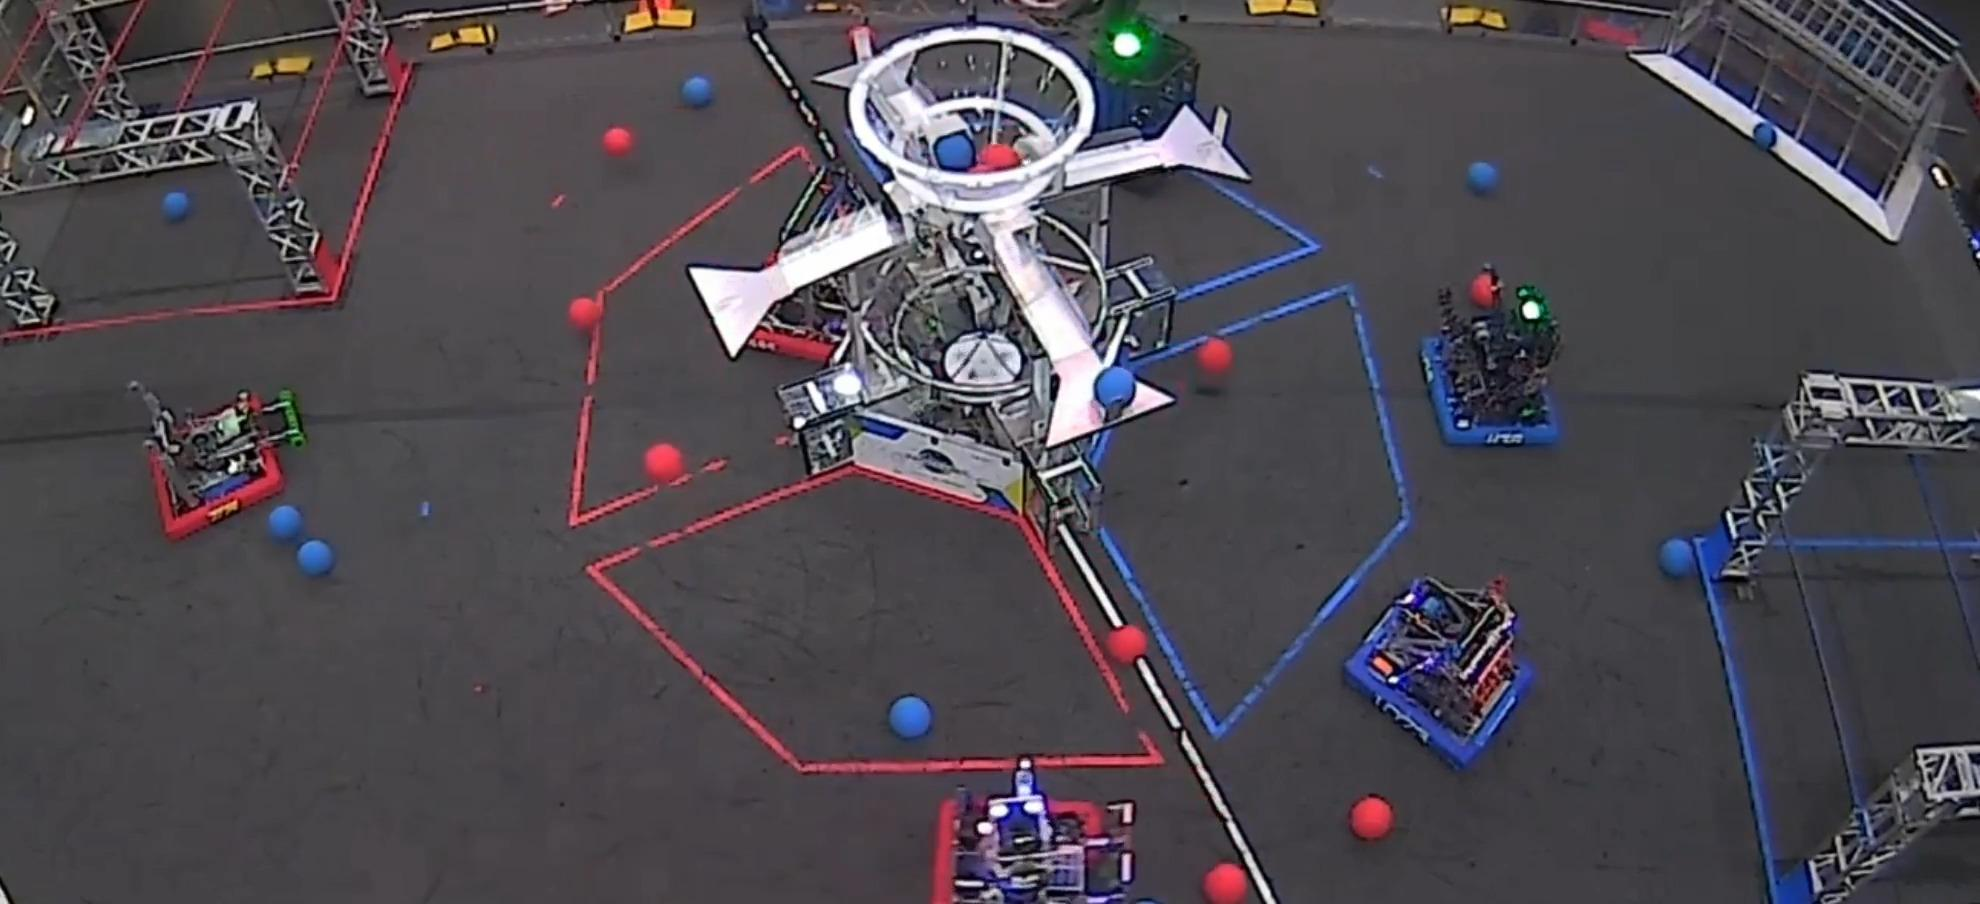Robots: (1346, 577, 1532, 768), (129, 383, 306, 538), (946, 758, 1133, 903), (758, 162, 864, 352), (1438, 266, 1560, 429), (1078, 18, 1216, 155)
